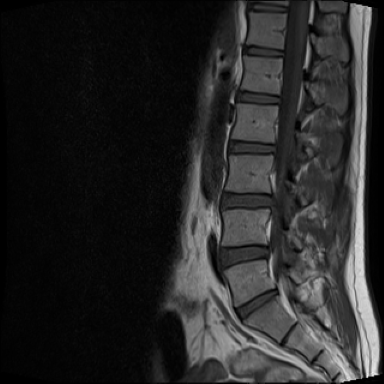Lumbar Disc Bulge LDB: (214, 181, 282, 218)
Normal IVD: (229, 281, 280, 327), (215, 237, 273, 275), (226, 136, 281, 160), (233, 85, 285, 110), (236, 42, 286, 62), (245, 1, 292, 14)
Spinal Stenosis SS: (255, 183, 290, 215)
